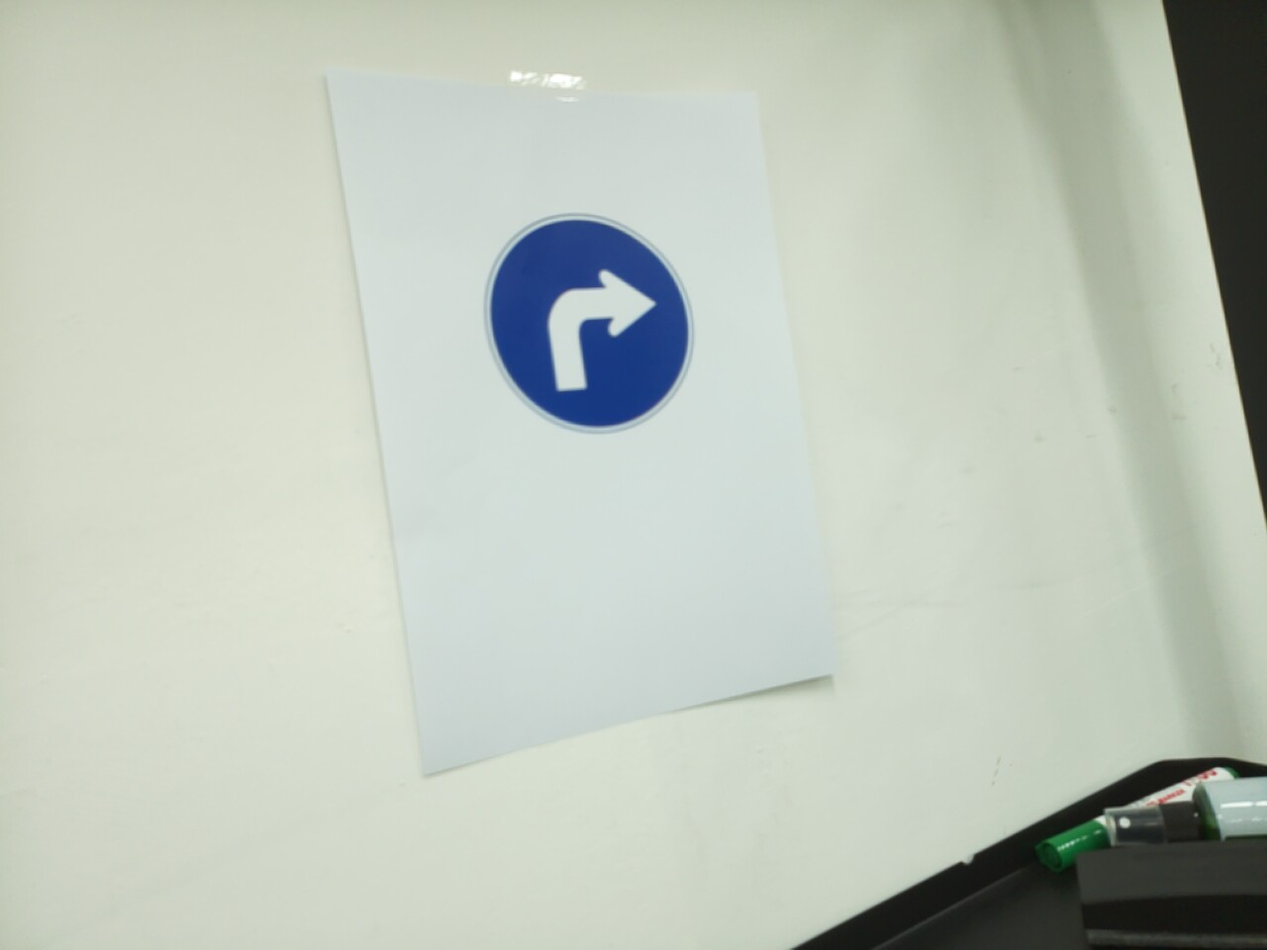right_turn: (482, 212, 697, 435)
